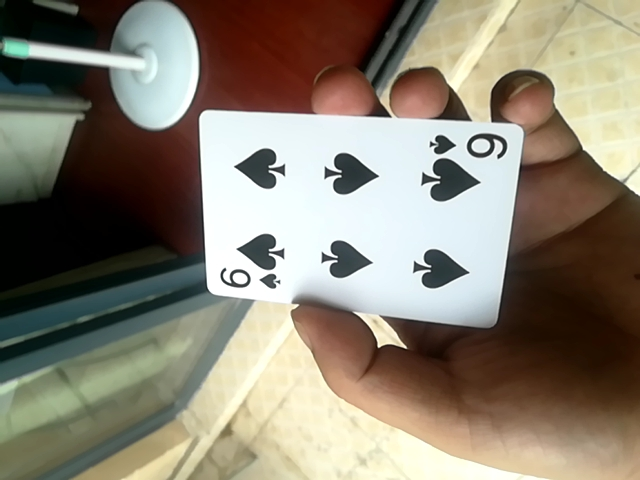ht 6: (188, 108, 528, 328)
